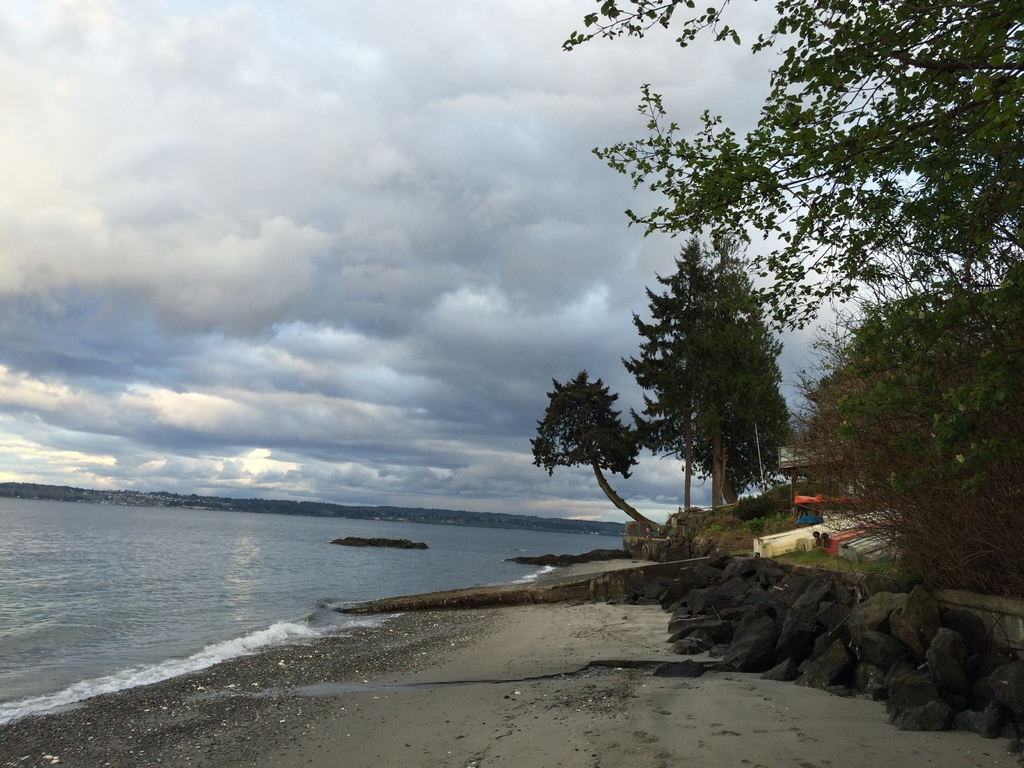Tree: (558, 0, 1023, 357), (818, 220, 1023, 579), (620, 192, 810, 555), (529, 362, 659, 550)
